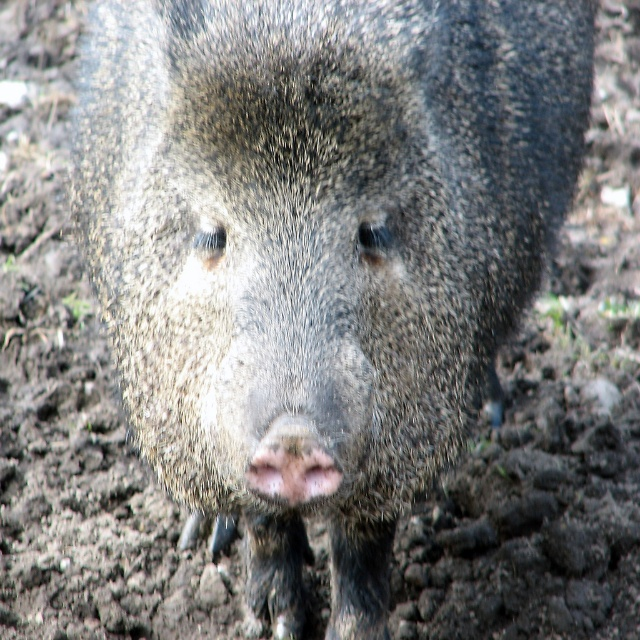Pig: (54, 0, 603, 640)
